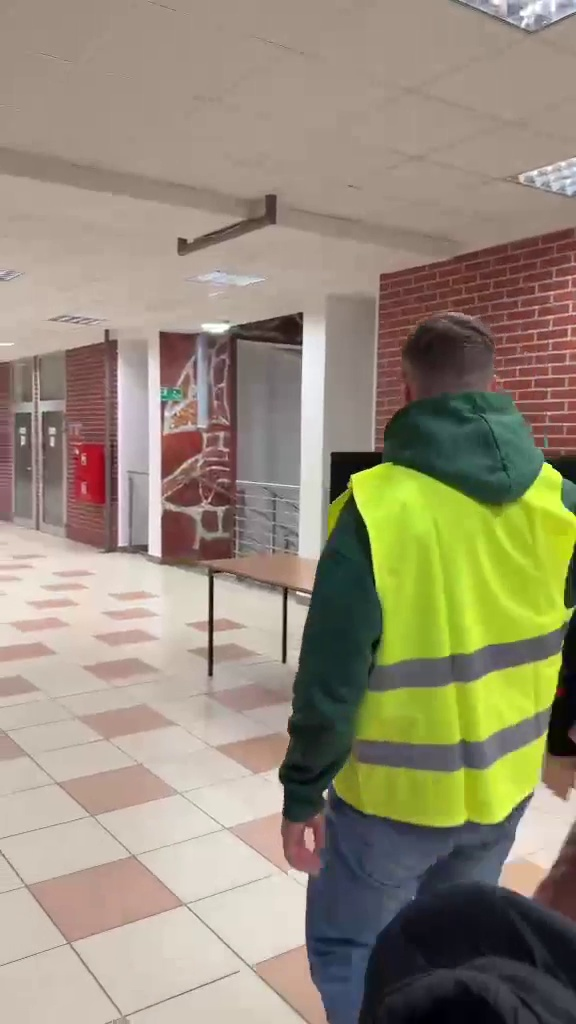vest: (266, 303, 576, 964)
